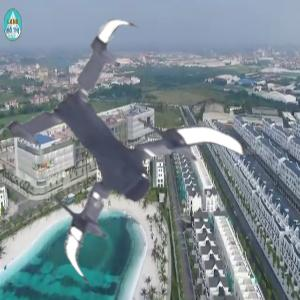drone: (1, 43, 241, 283)
